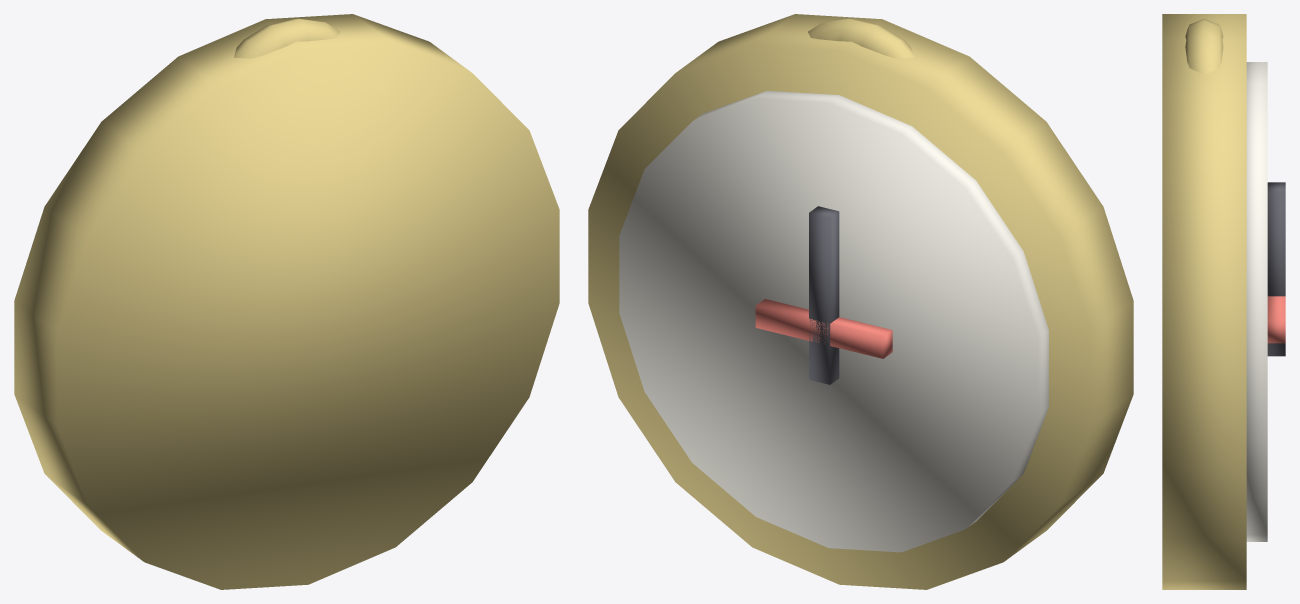
The model's file is Prop_SkipTurn.fbx.
3 views of the same model, side by side, from view 1: azimuth 30°, elevation 25°; view 2: azimuth 150°, elevation 25°; view 3: azimuth 270°, elevation 25° (orthographic).
Visible parts, largest first — view 1: Prop_SkipTurn; view 2: Prop_SkipTurn; view 3: Prop_SkipTurn.
Part boxes in pixels (box(x1,y1,x2,y2)): Prop_SkipTurn: box(14, 14, 559, 589); Prop_SkipTurn: box(588, 14, 1133, 589); Prop_SkipTurn: box(1162, 14, 1285, 589).
Bounding box in the file's own units: 9.45 × 9.83 × 2.05.
